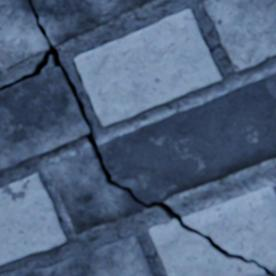brick: (74, 9, 220, 125), (0, 67, 89, 169), (0, 173, 66, 264), (22, 234, 152, 275), (203, 0, 275, 71)
broken_brick: (98, 73, 275, 203), (48, 147, 144, 233), (182, 186, 275, 269), (149, 219, 263, 275), (32, 0, 151, 46), (0, 0, 48, 67)
crack: (0, 0, 274, 275), (79, 154, 83, 159)
